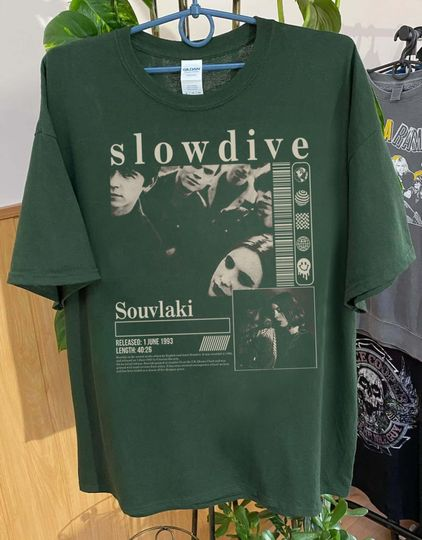design: (105, 125, 321, 378)
